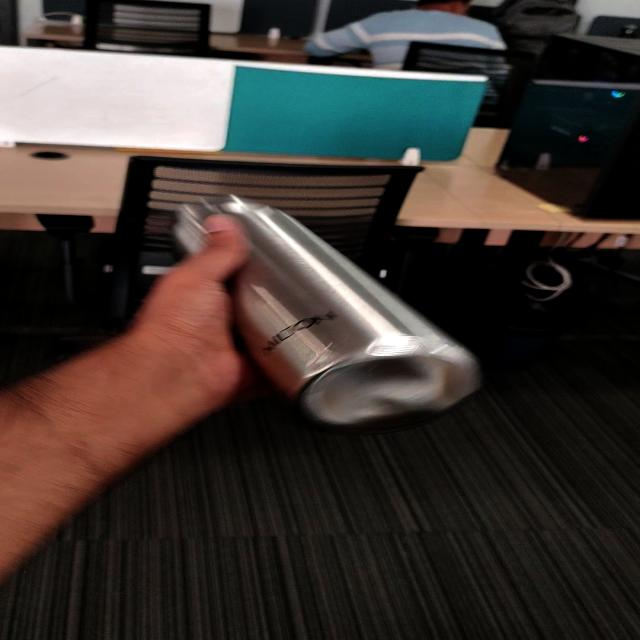bottle: (168, 191, 486, 435)
